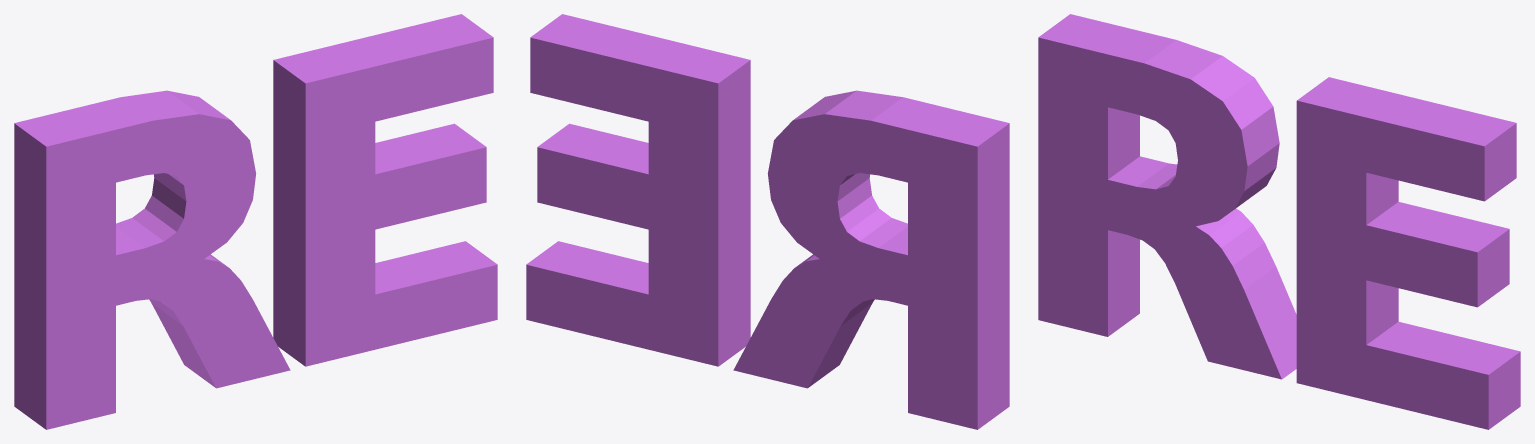
File: suku_besar_re.glb
The picture shows the model from 3 angles, left to right: view 1: azimuth 30°, elevation 25°; view 2: azimuth 150°, elevation 25°; view 3: azimuth 330°, elevation 25°; orthographic projection.
Parts seen in each view (by area): view 1: geometry_0; view 2: geometry_0; view 3: geometry_0.
Boxes of the visible parts, bbox=[...] form: geometry_0: bbox=[14, 14, 497, 429]; geometry_0: bbox=[526, 14, 1009, 429]; geometry_0: bbox=[1038, 14, 1520, 429].
Bounding box in the file's own units: 12.16 × 7.29 × 1.5.
